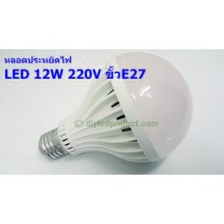light_bulb: (36, 50, 196, 168)
